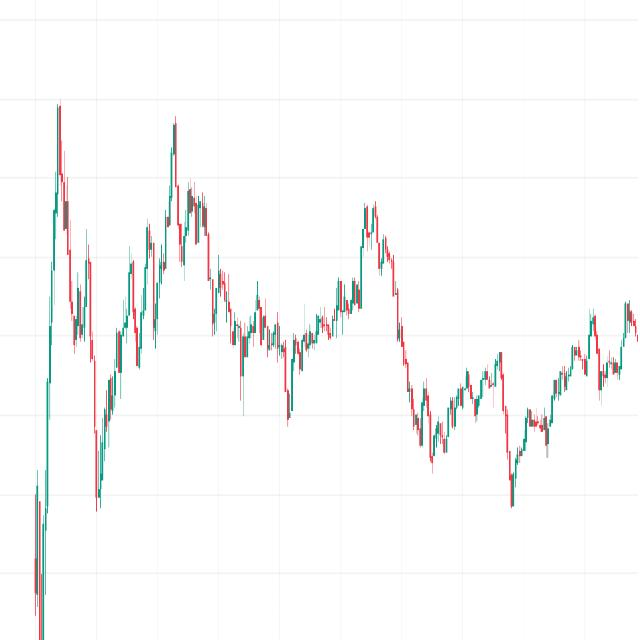Inverse-Head-Shoulders: (66, 149, 152, 526)
Rounding-Bottom: (204, 193, 368, 440)
